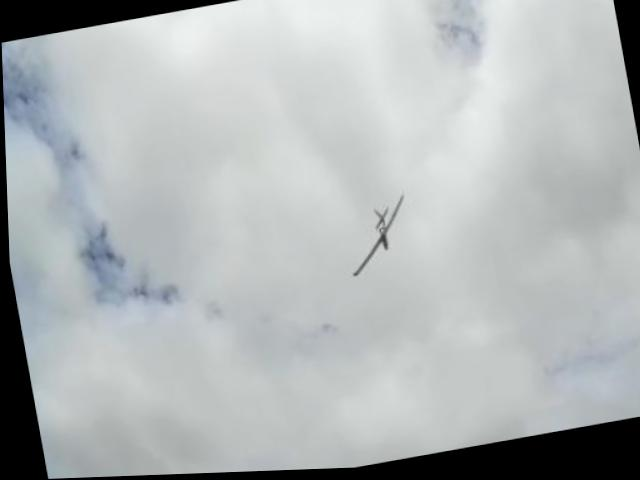uav: (328, 185, 427, 292)
